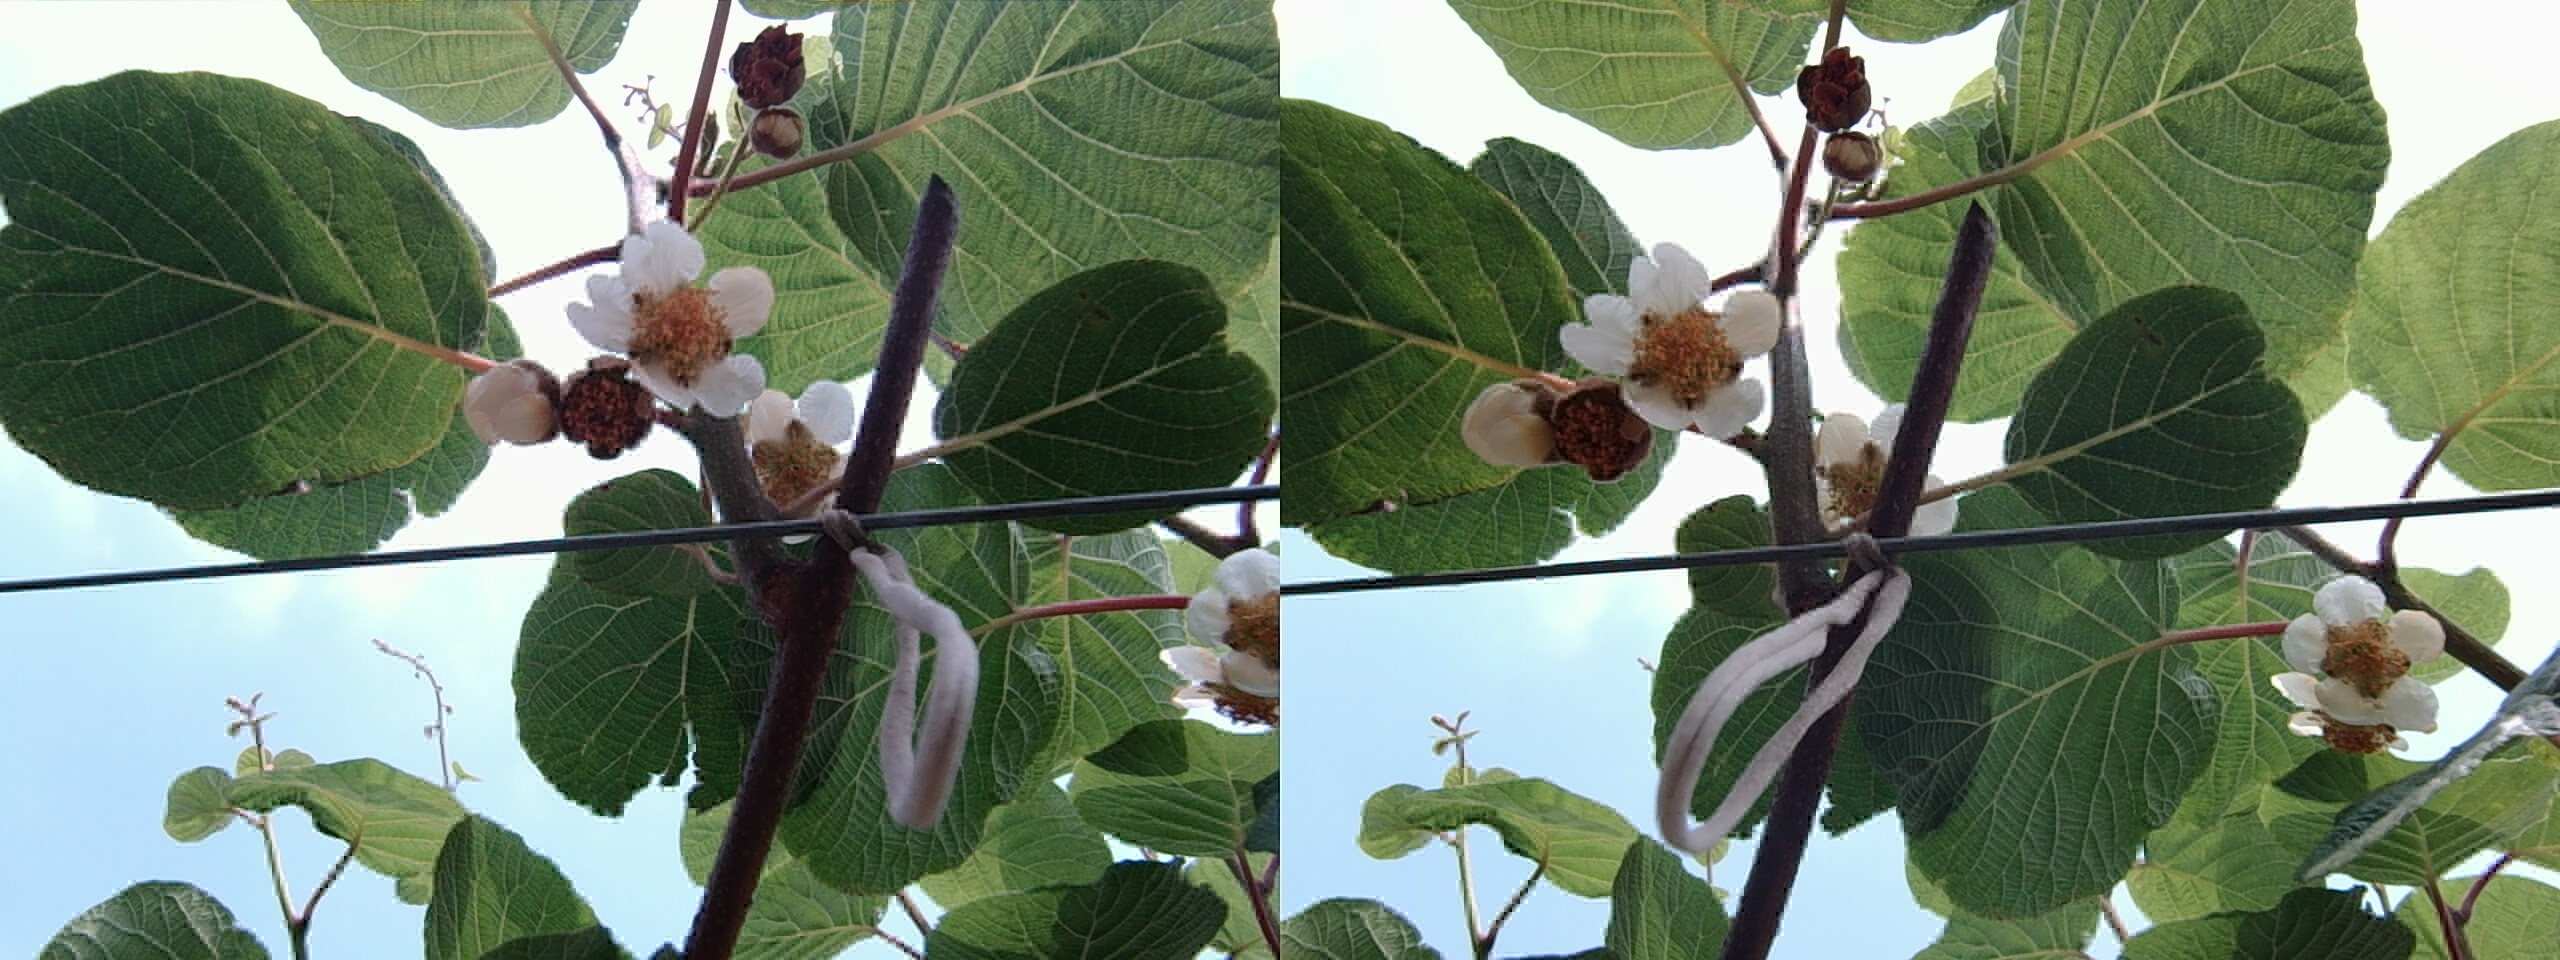flower: (1562, 237, 1784, 438), (576, 229, 785, 413), (2273, 580, 2441, 741), (460, 346, 674, 457), (1468, 362, 1657, 477)
